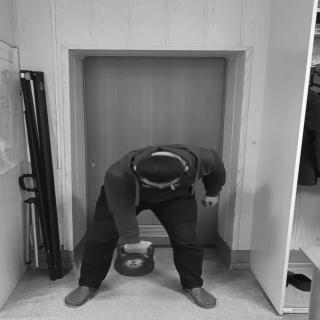girya: (115, 245, 157, 279)
